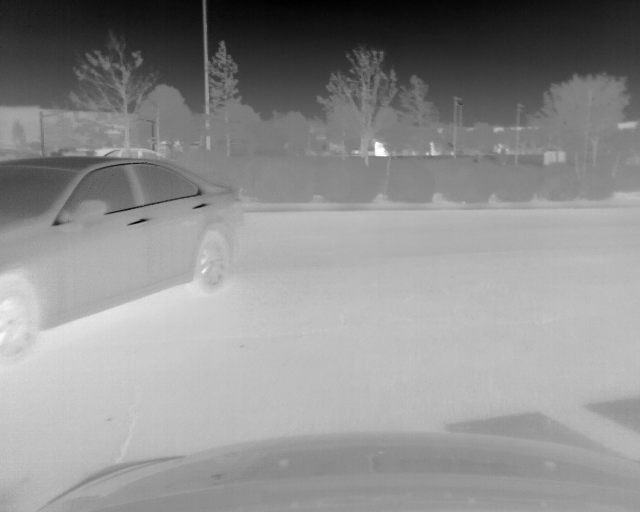car: (1, 155, 244, 365), (90, 146, 168, 160)
